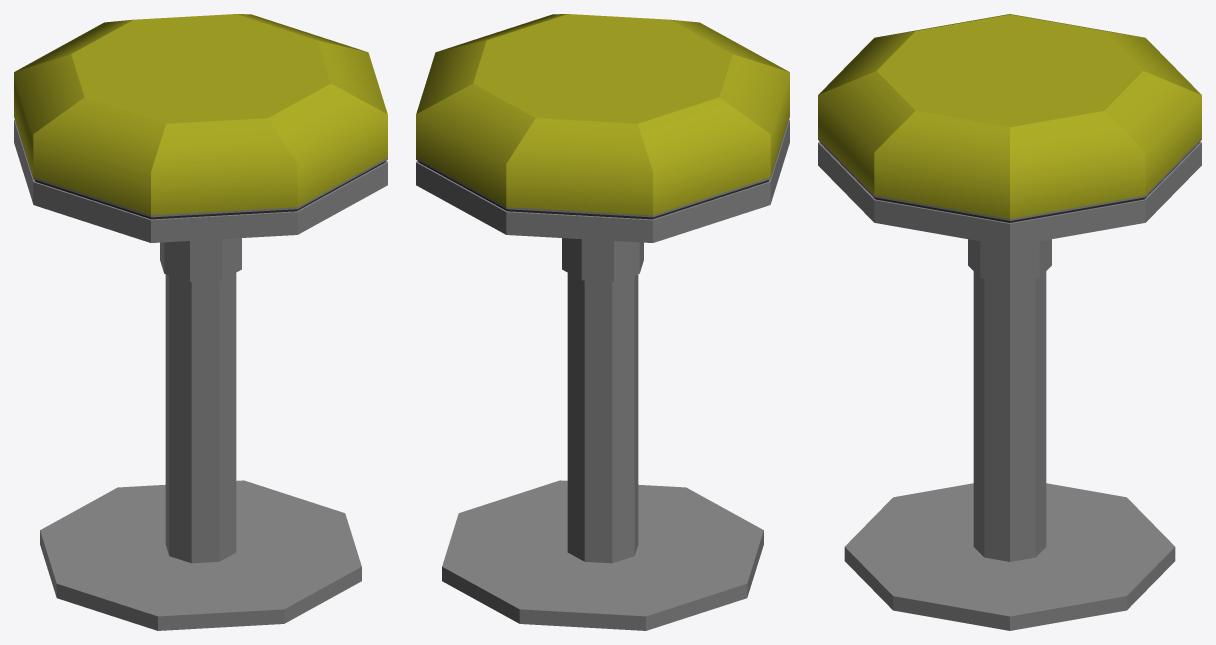
Rendered from HighTopBench.fbx.
The picture shows the model from 3 angles, left to right: view 1: azimuth 30°, elevation 25°; view 2: azimuth 150°, elevation 25°; view 3: azimuth 270°, elevation 25°; orthographic projection.
Parts seen in each view (by area): view 1: HighTopBench; view 2: HighTopBench; view 3: HighTopBench.
Boxes of the visible parts, x1,y1,x2,y2 form: HighTopBench: [14, 14, 387, 630]; HighTopBench: [416, 14, 789, 630]; HighTopBench: [818, 14, 1201, 630].
Bounding box in the file's own units: 57.67 × 81.27 × 57.67.
